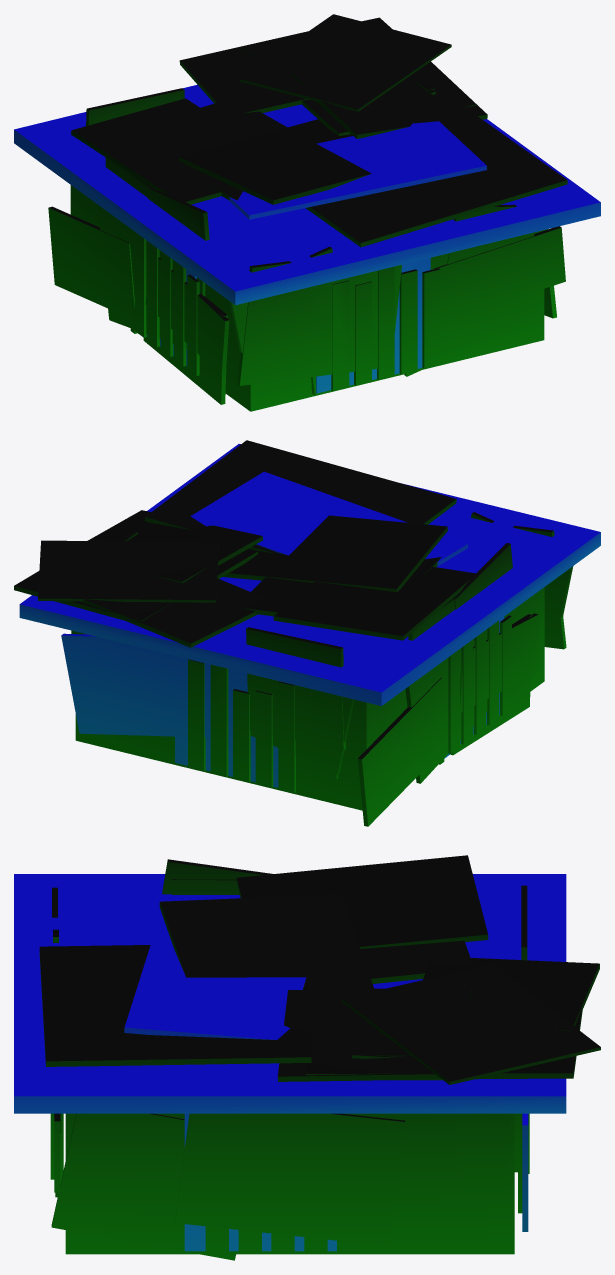
File: crashshanty3.glb
The picture shows the model from 3 angles, top to bottom: view 1: azimuth 30°, elevation 25°; view 2: azimuth 150°, elevation 25°; view 3: azimuth 270°, elevation 25°; orthographic projection. The views are drawn at different scales.
Parts seen in each view (by area): view 1: lod0; view 2: lod0; view 3: lod0.
Boxes of the visible parts, <box> form: lod0: <box>14,14,600,411</box>; lod0: <box>14,440,600,826</box>; lod0: <box>14,855,600,1260</box>.
Size of what is drawn, in the model's own units: 6.52 by 2.84 by 6.8.
